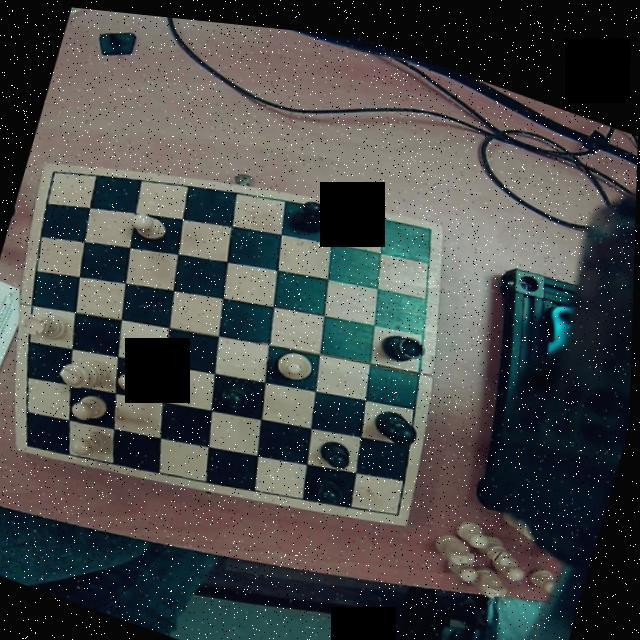chess-table-corners: (410, 206, 444, 240), (384, 486, 416, 520), (14, 429, 49, 458), (38, 160, 68, 189)
